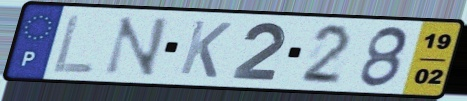2: (228, 20, 290, 84), (297, 22, 355, 88)
8: (357, 24, 409, 90)
K: (176, 18, 235, 80)
L: (49, 11, 98, 75)
N: (100, 14, 173, 78)
